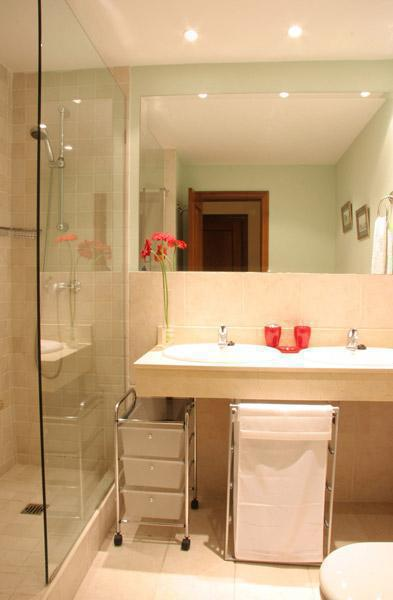Ducha: (4, 65, 128, 599)
Lavamanos: (164, 318, 289, 368), (295, 319, 392, 371)
